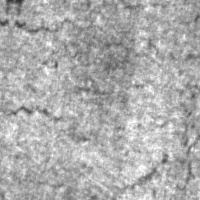crazing: (94, 0, 199, 199), (10, 0, 199, 76), (1, 11, 108, 130)
